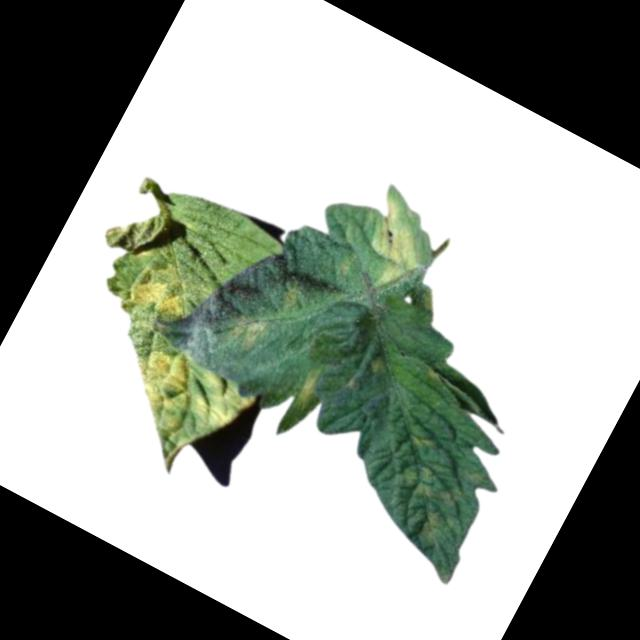Leaf_Mold: (95, 330, 261, 490), (372, 438, 496, 567), (340, 180, 450, 298), (113, 247, 203, 334), (284, 357, 331, 419), (225, 307, 272, 358)
